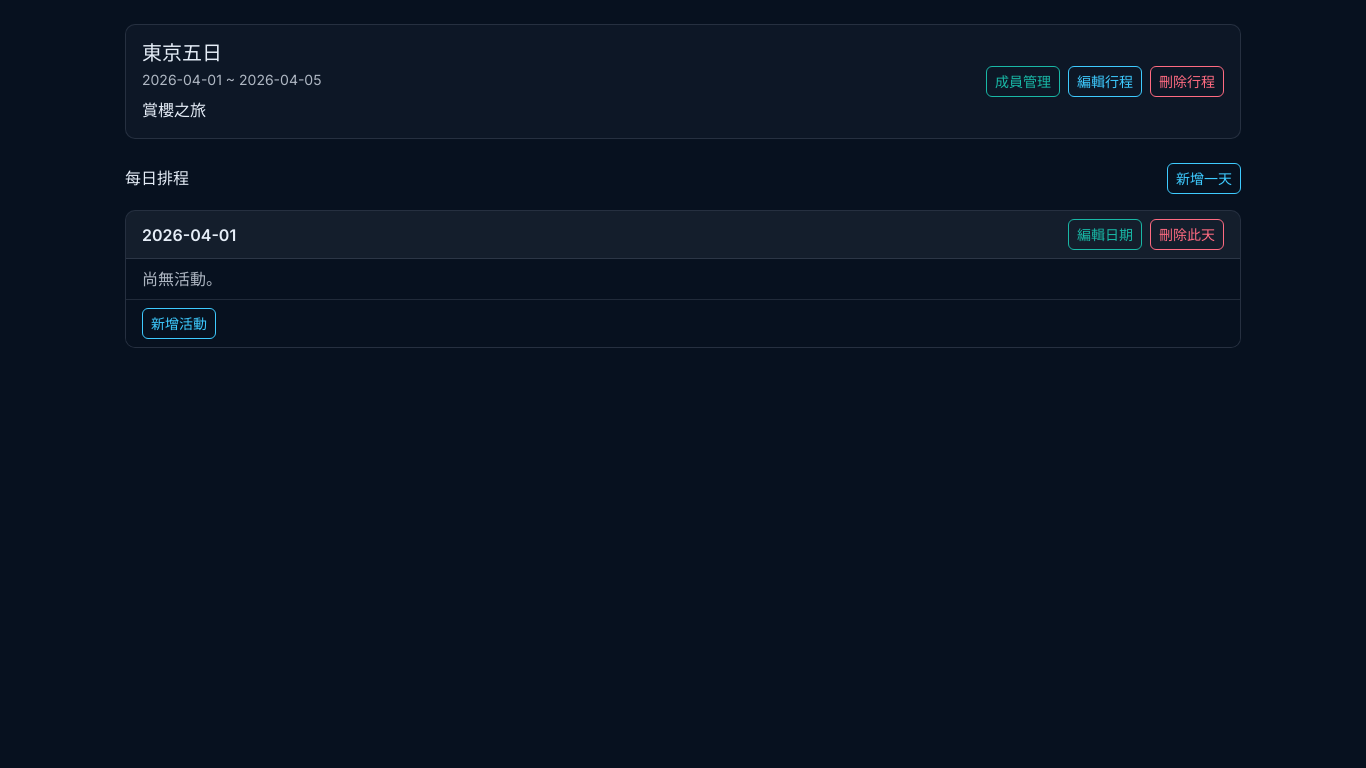
TripDetailPage › 活動管理與排序 › 結束時間早於開始時間時顯示後端時間欄位錯誤
Click the button "新增活動" at (179, 324), box top-left (142, 308), bottom-right (216, 339)
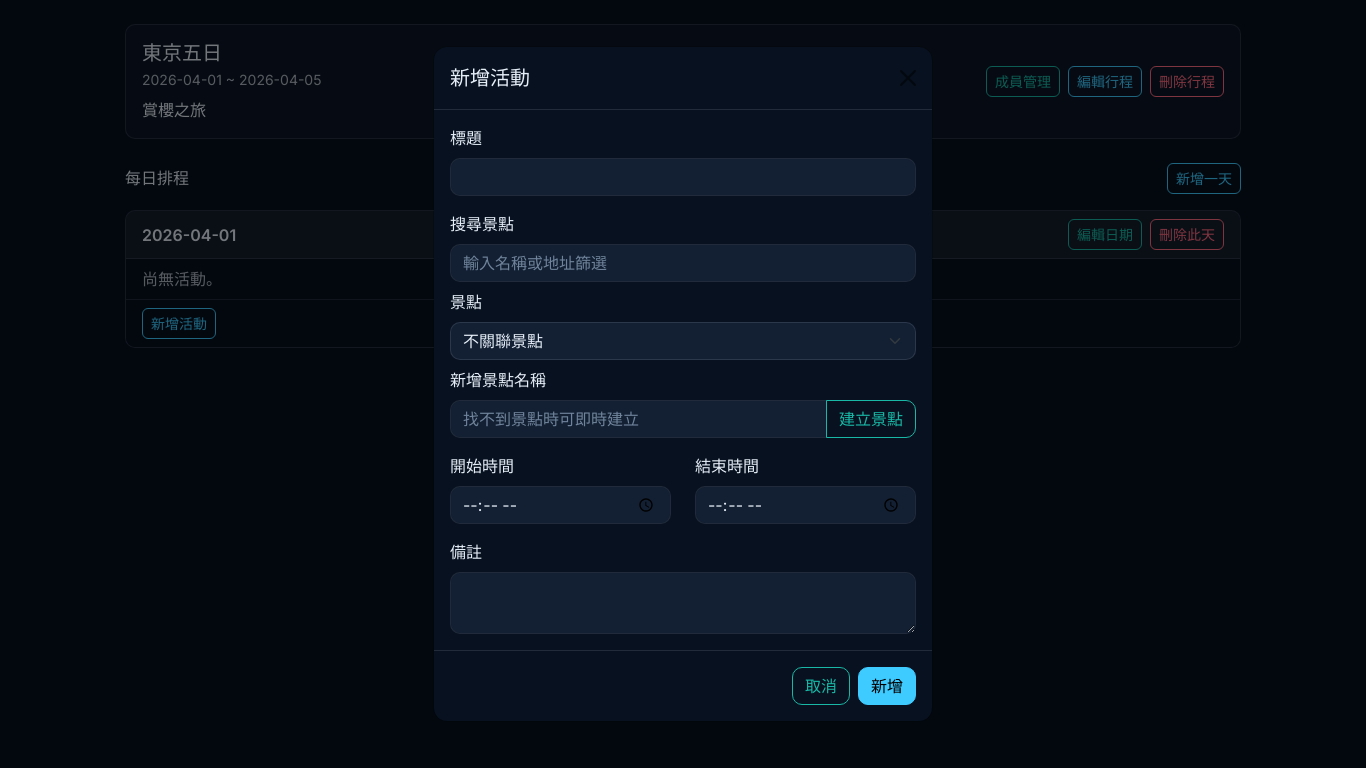
Type "晚餐" into the field labelled "標題" at (683, 177), box top-left (450, 158), bottom-right (916, 196)
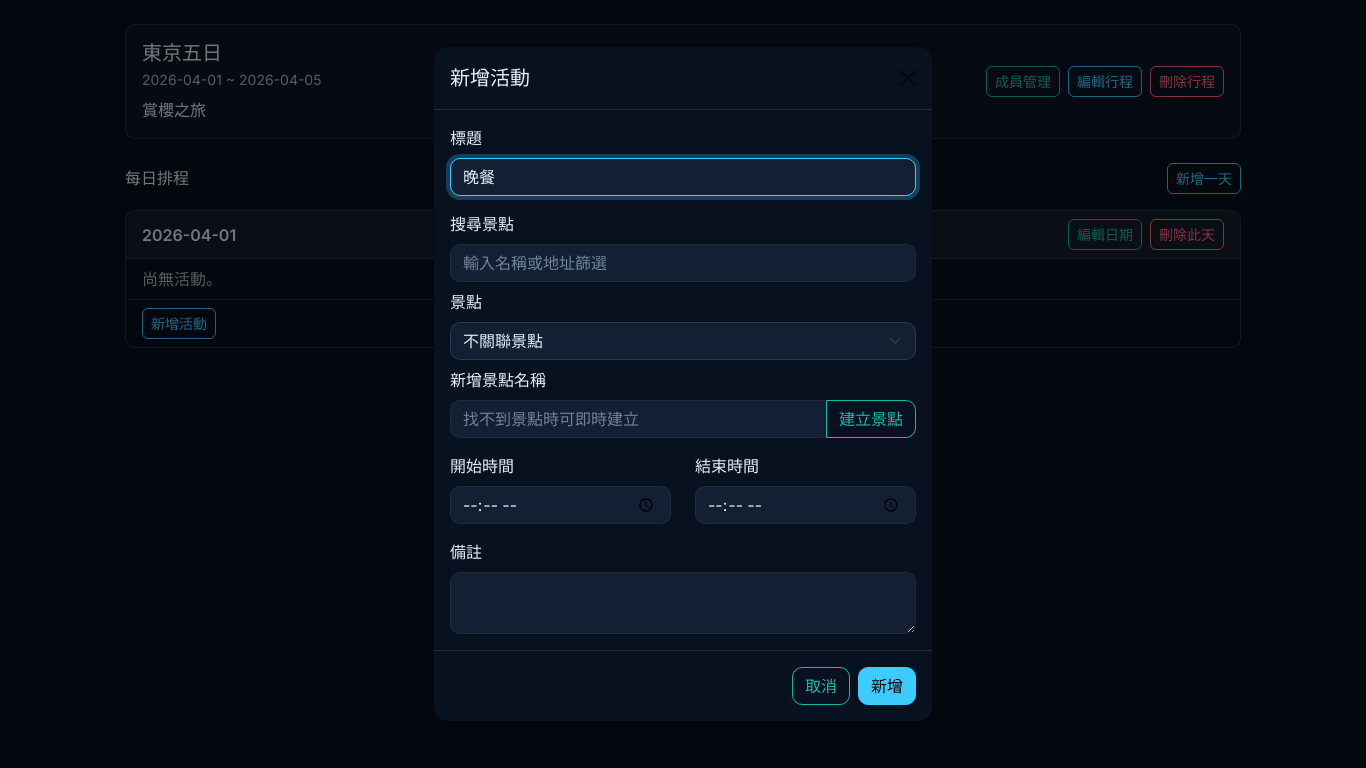
Type "20:00" into the time field labelled "開始時間" at (560, 505), box top-left (450, 486), bottom-right (671, 524)
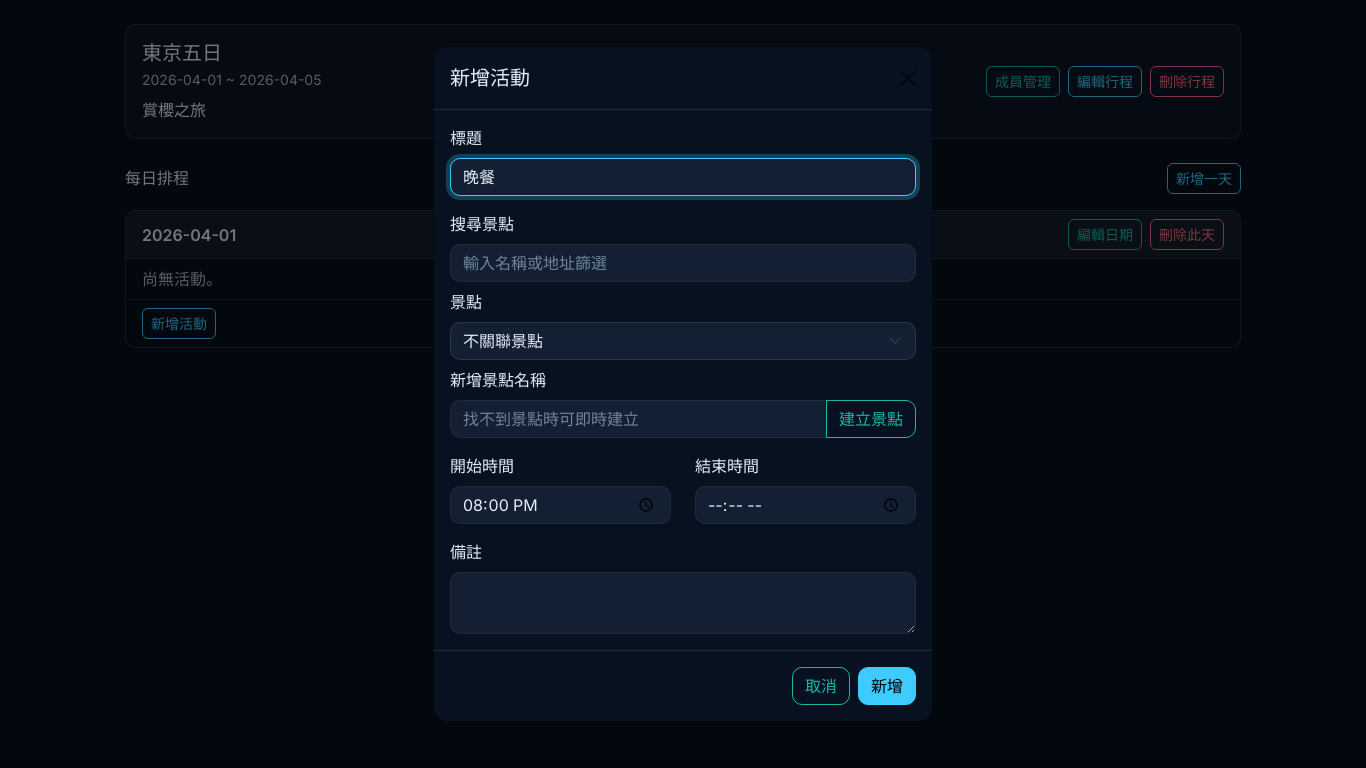
Type "18:00" into the time field labelled "結束時間" at (806, 505), box top-left (695, 486), bottom-right (916, 524)
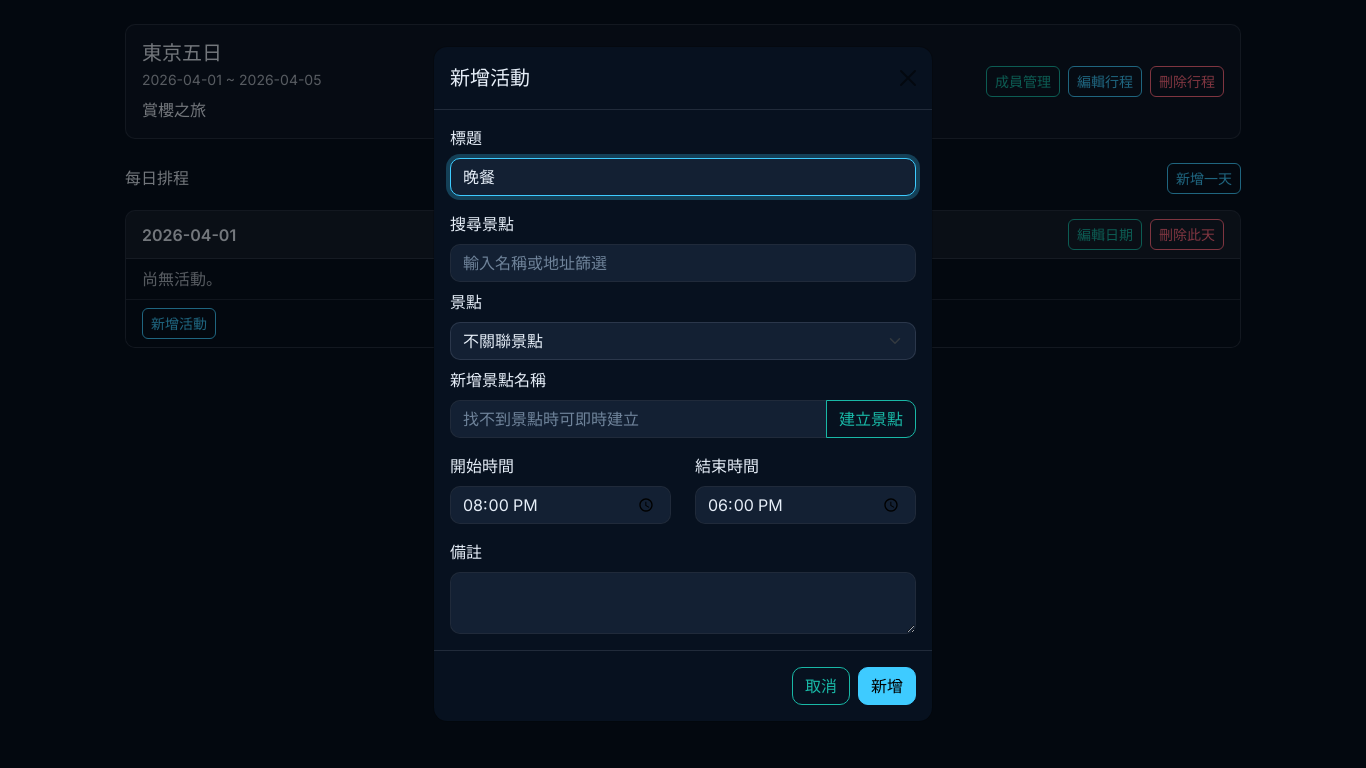
Click the button "新增" at (887, 686), box top-left (858, 667), bottom-right (916, 705)
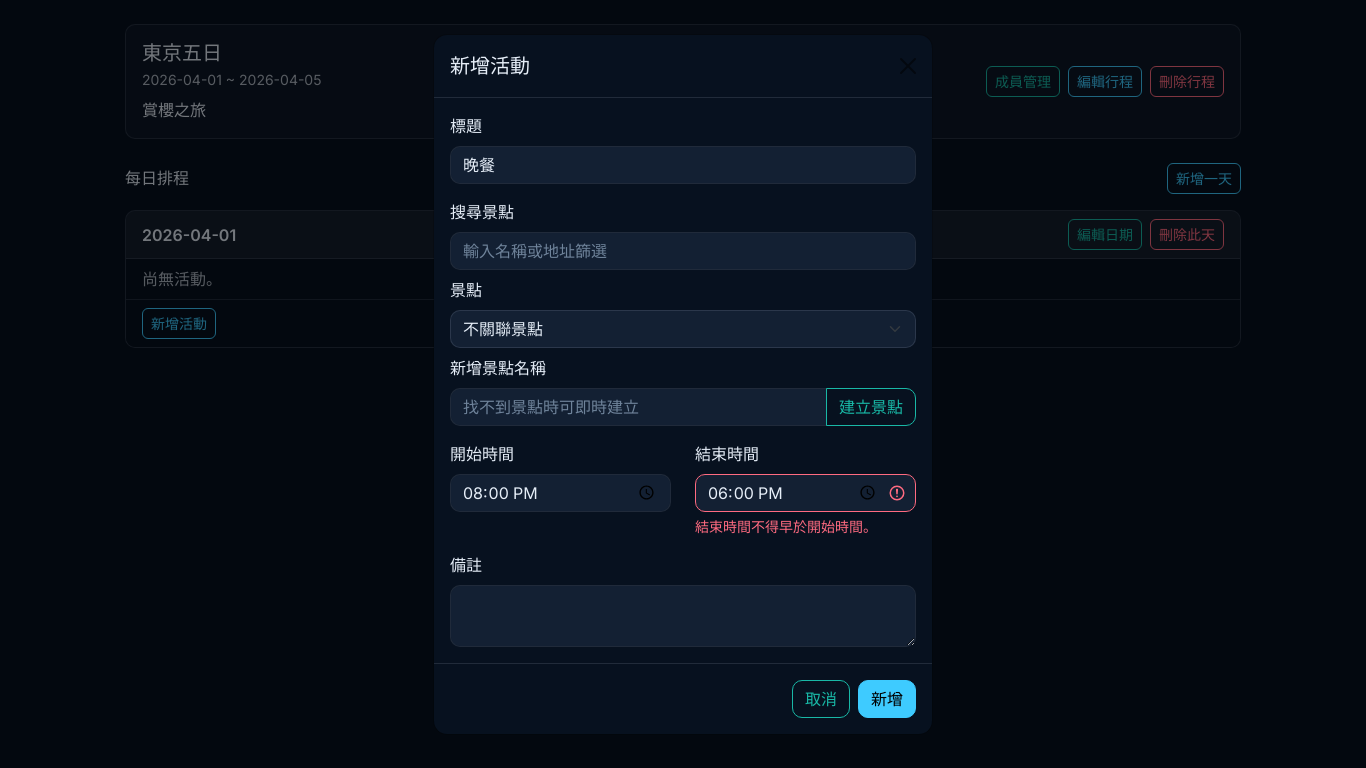
Expected: the text "結束時間不得早於開始時間。" is shown, top-left (695, 518), bottom-right (877, 534)
